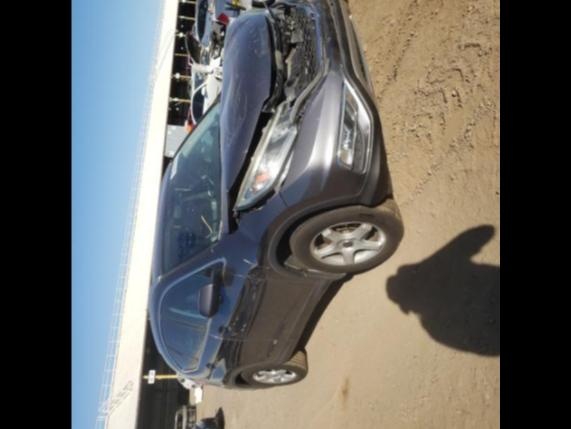Broken part: (219, 4, 278, 235), (260, 0, 324, 116), (232, 101, 299, 210), (243, 144, 295, 214)
Scratch: (316, 0, 333, 46), (256, 15, 270, 63), (330, 57, 338, 76), (337, 62, 343, 69)
